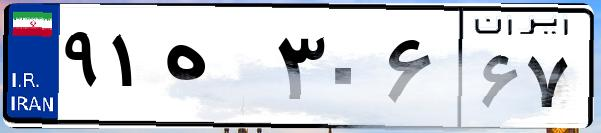0: (330, 28, 385, 110)
1: (110, 28, 158, 98)
3: (270, 28, 330, 110)
6: (385, 28, 445, 110), (475, 38, 525, 113)
7: (525, 38, 570, 115)
9: (57, 26, 110, 100)
ه: (158, 20, 270, 120)
